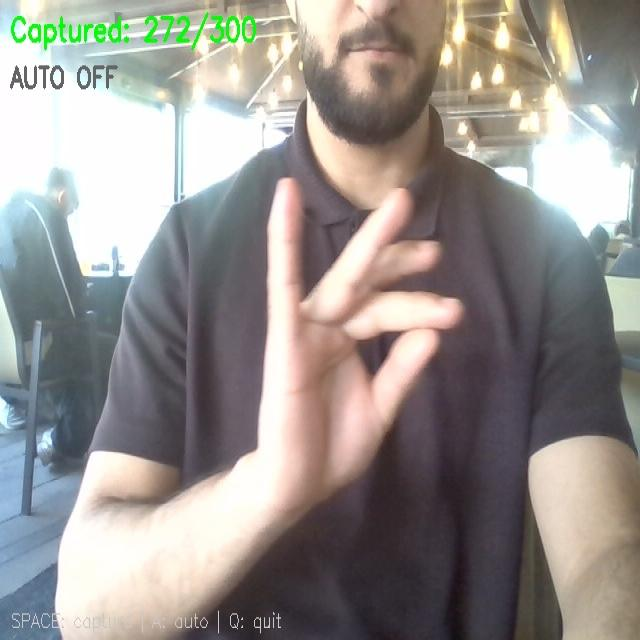Hand: (255, 179, 461, 513)
